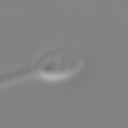normal: (1, 65, 41, 93)
